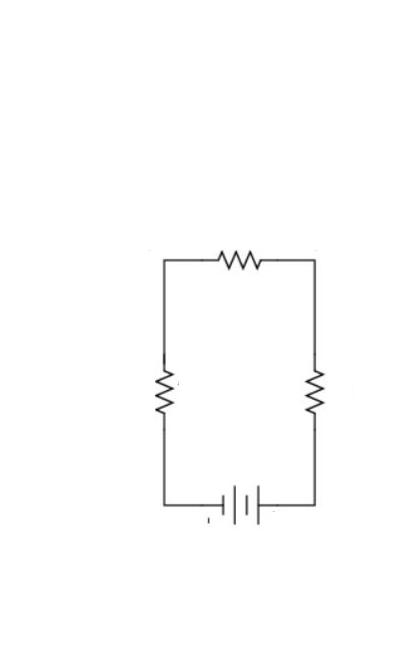resistor: (143, 342, 190, 435), (208, 229, 280, 284), (291, 340, 335, 428)
